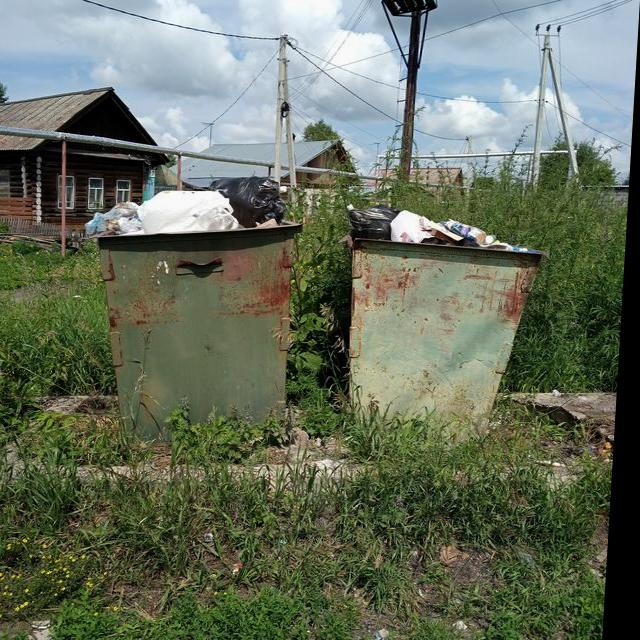Trash_Can_Full: (87, 176, 305, 442), (341, 203, 555, 442)
